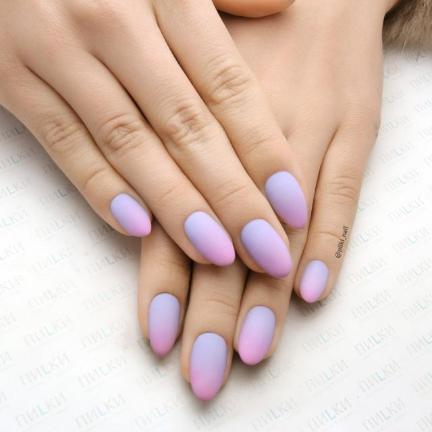Nail: (240, 218, 293, 277), (184, 211, 236, 266), (264, 171, 308, 229), (190, 333, 227, 400), (238, 306, 276, 365), (148, 294, 180, 357), (110, 193, 152, 237), (299, 260, 328, 303)
